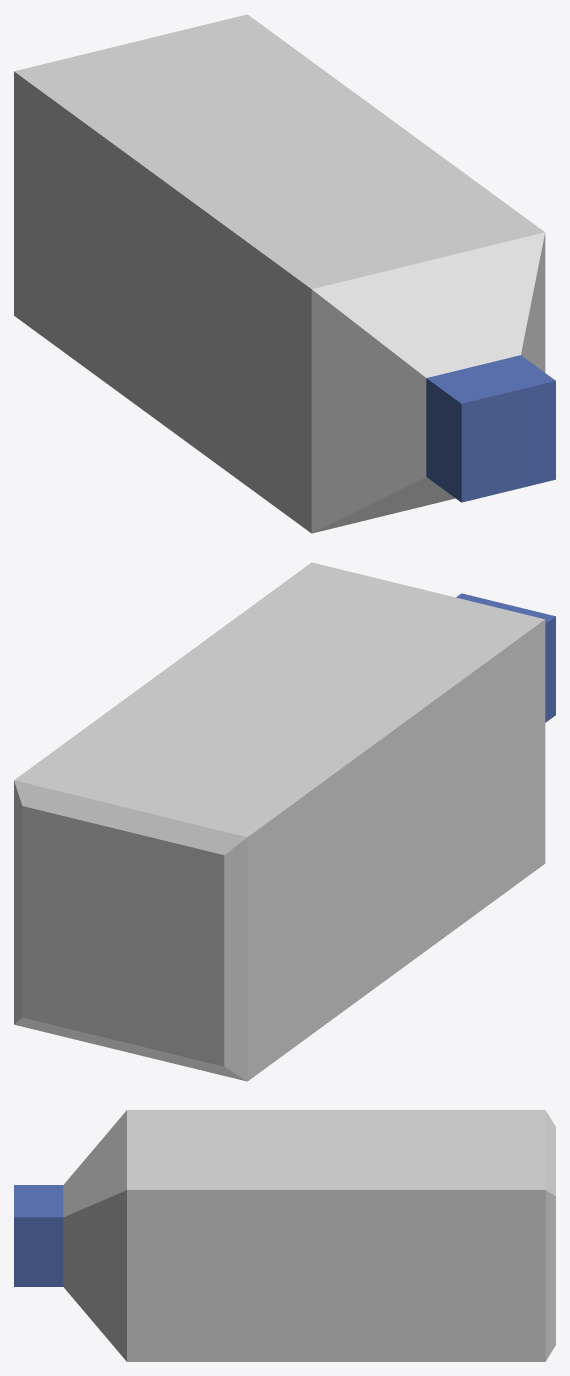
Rendered from Bottle.fbx.
3 renders of one model, top to bottom at view 1: azimuth 30°, elevation 25°; view 2: azimuth 150°, elevation 25°; view 3: azimuth 270°, elevation 25°, orthographic. The views are drawn at different scales.
Visible parts, largest first — view 1: Cube; view 2: Cube; view 3: Cube.
Boxes of the visible parts, bbox=[...] form: Cube: bbox=[14, 14, 555, 533]; Cube: bbox=[14, 562, 555, 1081]; Cube: bbox=[14, 1110, 555, 1361].
Size of the model in its own units: 200 by 200 by 572.
Materials: 2 (1 with a texture image).
